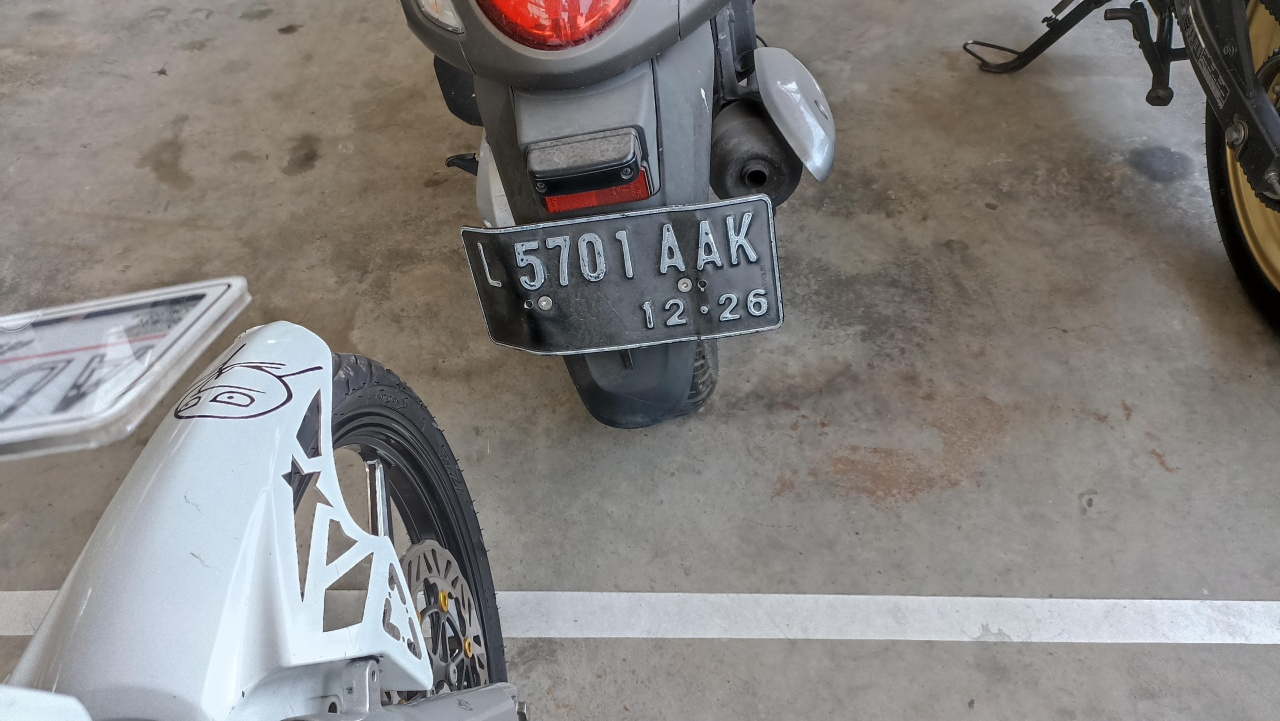plate: (460, 195, 787, 358)
